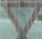Give way: (0, 1, 41, 37)
